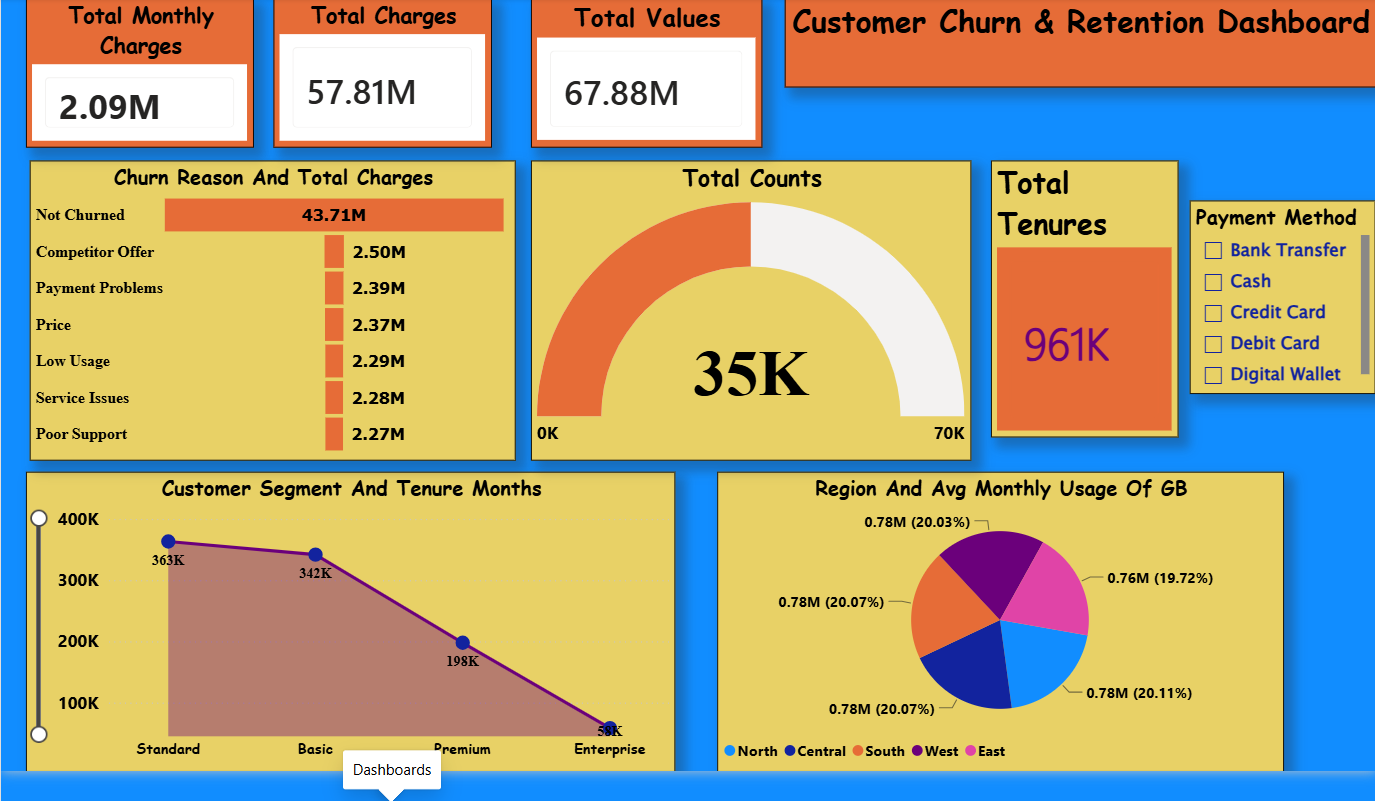

Layout of this report page (visuals, bound fields, positions):
{"tool":"powerbi","page":{"name":"Dashboards","canvas":[1280,720],"ordinal":1},"visuals":[{"type":"areaChart","title":"Customer Segment  And  Tenure Months","fields":{"Category":["customer_churn_dataset.Customer_Segment"],"Y":["Sum(customer_churn_dataset.Tenure_Months)"]},"box":[23.4,440.5,604.4,279.5],"z":0},{"type":"funnel","title":"Churn Reason And  Total Charges","fields":{"Category":["customer_churn_dataset.Churn_Reason"],"Y":["Sum(customer_churn_dataset.Total_Charges)"]},"box":[26.3,150.7,452.2,279.5],"z":1000},{"type":"pieChart","title":"Region  And Avg Monthly  Usage Of GB","fields":{"Category":["customer_churn_dataset.Region"],"Y":["Sum(customer_churn_dataset.Avg_Monthly_Usage_GB)"]},"box":[665.9,440.5,526.8,279.5],"z":2000},{"type":"gauge","title":"Total Counts","fields":{"Y":["customer_churn_dataset.count3"]},"box":[493.2,150.7,409.8,279.5],"z":3000},{"type":"cardVisual","title":"Total  Monthly Charges","fields":{"Data":["Sum(table.Monthly_Charges)"]},"box":[23.4,0,212.2,139],"z":4000},{"type":"cardVisual","title":"Total  Charges","fields":{"Data":["Sum(customer_churn_dataset.Total_Charges)"]},"box":[253.2,0,203.4,139],"z":5000},{"type":"cardVisual","title":"Total Tenures","fields":{"Data":["Sum(table2.Tenure_Months)"]},"box":[920.5,150.7,174.1,257.6],"z":6000},{"type":"slicer","title":"Payment  Method","fields":{"Values":["table2.Payment_Method"]},"box":[1106.3,188.8,172.7,180],"z":7000},{"type":"cardVisual","title":"Total  Values","fields":{"Data":["Sum(table2.Customer_Lifetime_Value)"]},"box":[493.2,0,215.1,139],"z":8000},{"type":"textbox","title":"Customer Churn & Retention Dashboard","box":[728.8,0,550.2,83.4],"z":9000}]}

Visuals, with their boxes in screenshot pixels (x1, y1, x2, y2):
"Customer Segment  And  Tenure Months" areaChart: box(32, 474, 672, 770)
"Churn Reason And  Total Charges" funnel: box(35, 167, 514, 463)
"Region  And Avg Monthly  Usage Of GB" pieChart: box(713, 474, 1271, 770)
"Total Counts" gauge: box(530, 167, 964, 463)
"Total  Monthly Charges" cardVisual: box(32, 7, 257, 154)
"Total  Charges" cardVisual: box(275, 7, 491, 154)
"Total Tenures" cardVisual: box(982, 167, 1167, 440)
"Payment  Method" slicer: box(1179, 207, 1362, 398)
"Total  Values" cardVisual: box(530, 7, 758, 154)
"Customer Churn & Retention Dashboard" textbox: box(779, 7, 1362, 96)
